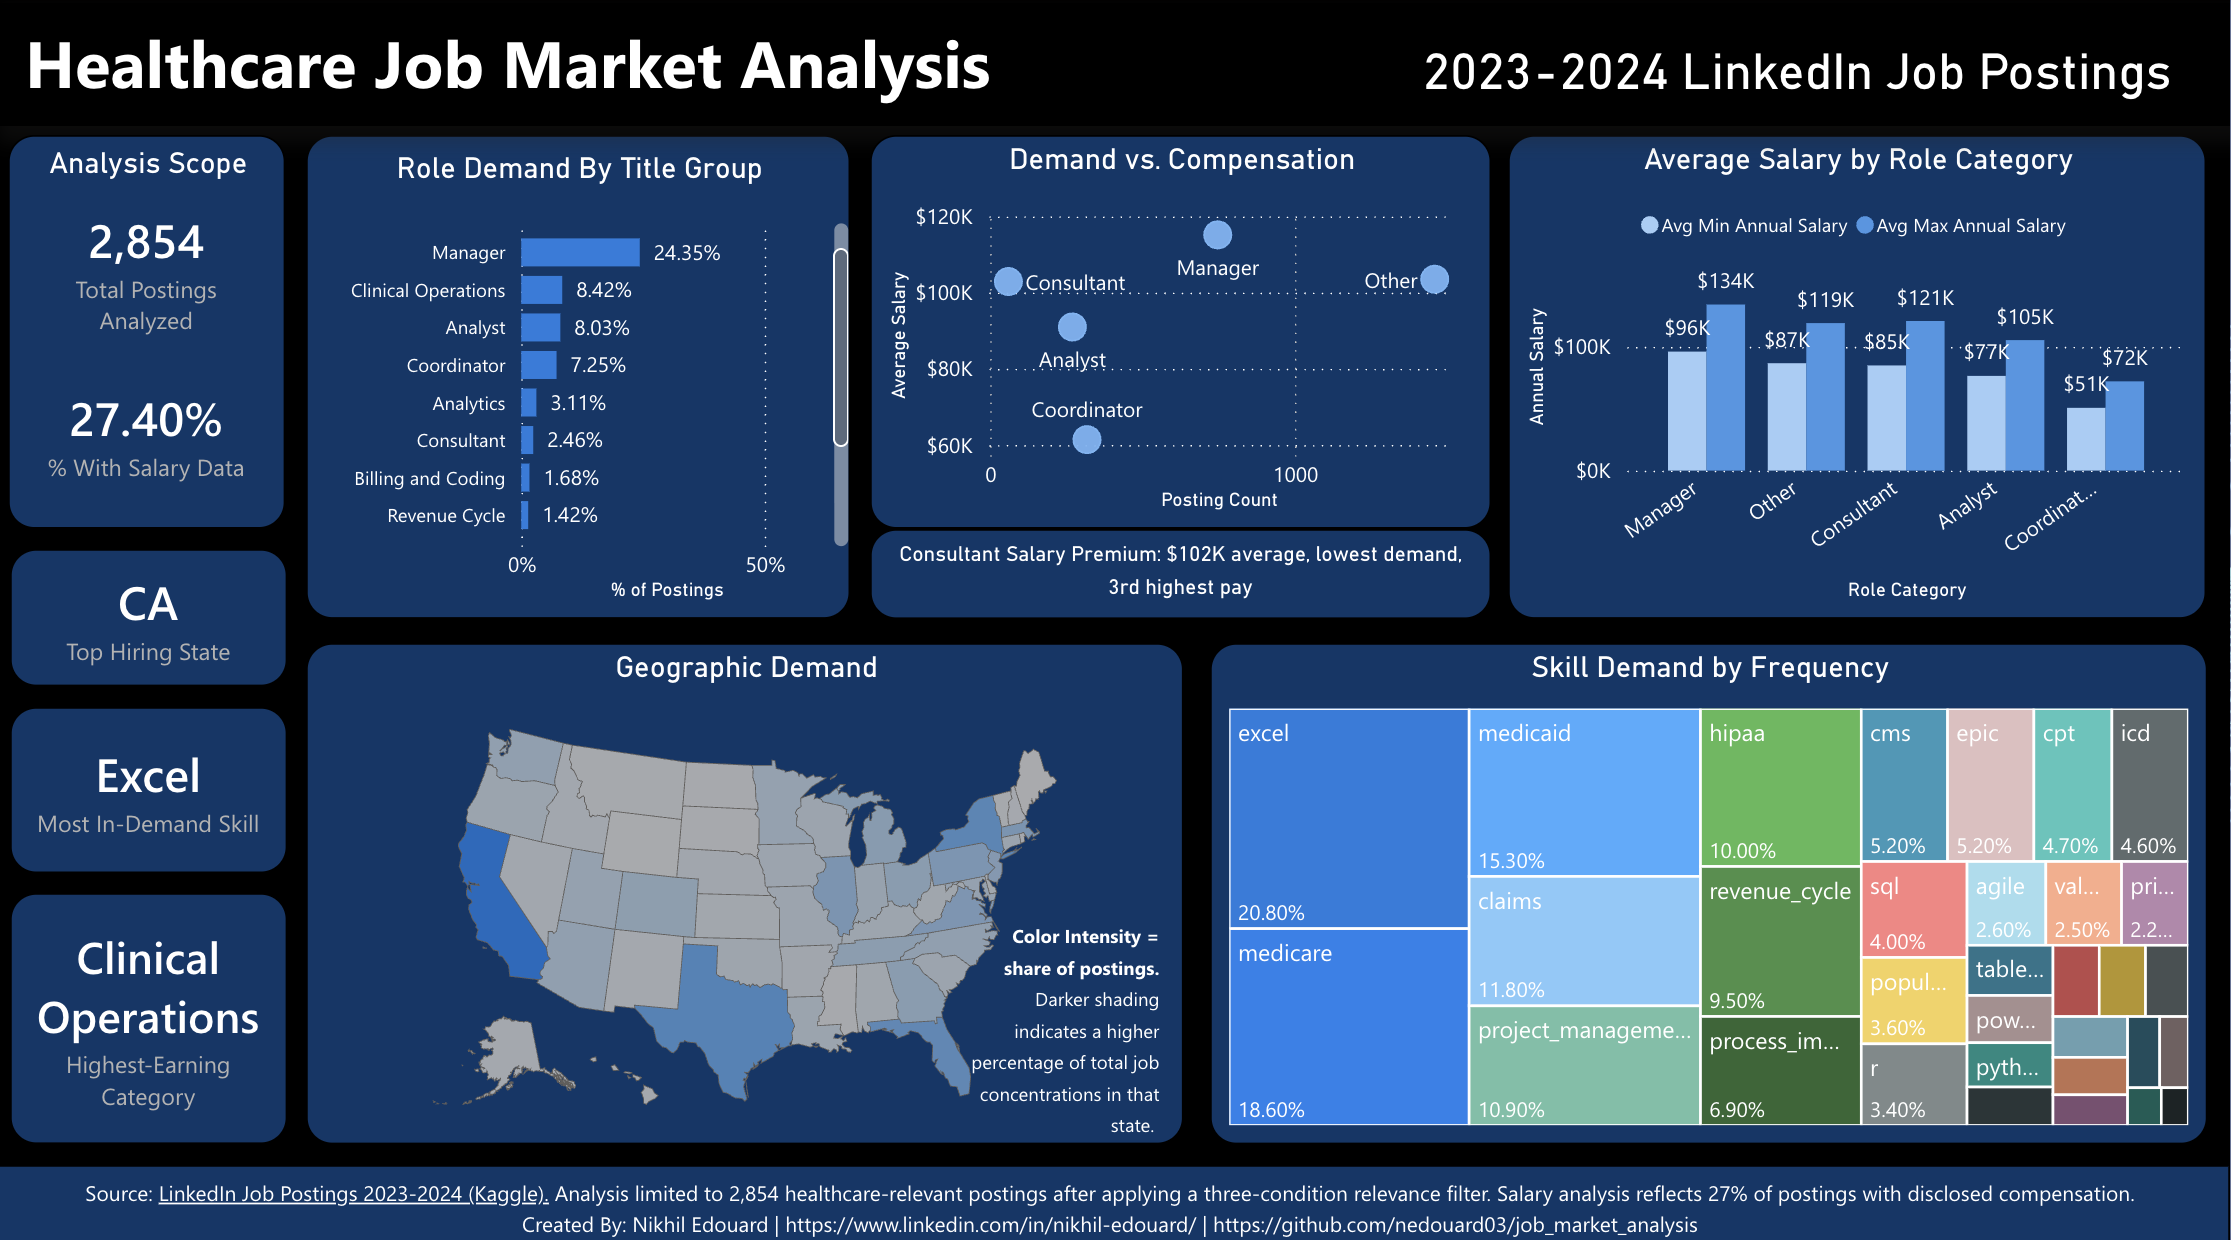

This screenshot's page, from the dashboard's own definition file:
{"tool":"powerbi","page":{"name":"Healthcare Job Market Analysis","canvas":[1280,720],"ordinal":0},"visuals":[{"type":"clusteredBarChart","title":"Role Demand By Title Group","fields":{"Category":["salary_by_title_subgroup.title_group"],"Y":["Sum(salary_by_title_subgroup.posting_count)"]},"box":[180,83.3,310,276.7],"z":0},{"type":"clusteredColumnChart","title":"Average Salary by Role Category","fields":{"Category":["salary_by_role_category.role_category"],"Y":["Sum(salary_by_role_category.Min Annual Salary)","Sum(salary_by_role_category.Max Annual Salary)"]},"box":[871.7,83.3,395,276.7],"z":1000},{"type":"shapeMap","title":"Geographic Demand","fields":{"Category":["role_demand_by_state.state"],"Value":["Sum(role_demand_by_state.posting_count)"]},"box":[180,373.3,501.7,286.7],"z":2000},{"type":"textbox","box":[0,8.3,1280,70],"z":3000},{"type":"treemap","title":"Skill Demand by Frequency","fields":{"Group":["skill_frequency_table.skill"],"Values":["Avg(skill_frequency_table.percent_of_postings)"]},"box":[696.7,373.3,570,286.7],"z":4000},{"type":"cardVisual","title":"Analysis Scope","fields":{"Data":["Sum(KPI_table.total_postings)","Sum(KPI_table (2).pct_with_salary)"]},"box":[10,83.3,158.3,225],"z":5000},{"type":"textbox","box":[0,671.7,1280,48.3],"z":6000},{"type":"scatterChart","title":"Demand vs. Compensation","fields":{"Category":["salary_vs_demand.role_category"],"X":["Sum(salary_vs_demand.posting_count)"],"Y":["Sum(salary_vs_demand.avg_mid_annual_salary)"]},"box":[503.3,83.3,355,225],"z":7000},{"type":"textbox","box":[503.3,308.3,355,51.7],"z":8000},{"type":"cardVisual","fields":{"Data":["Min(KPI_table (2).top_state)"]},"box":[11.7,320,158.3,78.3],"z":9000},{"type":"cardVisual","fields":{"Data":["Min(Table.Column1)"]},"box":[11.7,410,158.3,95],"z":10000},{"type":"cardVisual","fields":{"Data":["Min(Table (2).Column1)"]},"box":[11.7,516.7,158.3,143.3],"z":11000},{"type":"textbox","box":[813.3,16.7,453.3,53.3],"z":12000},{"type":"textbox","box":[554,526,126,146],"z":13000}]}

Visuals, with their boxes in screenshot pixels (x1, y1, x2, y2), scaled from the page's 1280x720 canvas onto the 2231x1240 screenshot:
"Role Demand By Title Group" clusteredBarChart: Rect(314, 143, 854, 620)
"Average Salary by Role Category" clusteredColumnChart: Rect(1519, 143, 2208, 620)
"Geographic Demand" shapeMap: Rect(314, 643, 1188, 1137)
textbox: Rect(0, 14, 2230, 135)
"Skill Demand by Frequency" treemap: Rect(1214, 643, 2208, 1137)
"Analysis Scope" cardVisual: Rect(17, 143, 293, 531)
textbox: Rect(0, 1157, 2230, 1239)
"Demand vs. Compensation" scatterChart: Rect(877, 143, 1496, 531)
textbox: Rect(877, 531, 1496, 620)
cardVisual - Min(KPI_table (2).top_state): Rect(20, 551, 296, 686)
cardVisual - Min(Table.Column1): Rect(20, 706, 296, 870)
cardVisual - Min(Table (2).Column1): Rect(20, 890, 296, 1137)
textbox: Rect(1418, 29, 2208, 121)
textbox: Rect(966, 906, 1185, 1157)
